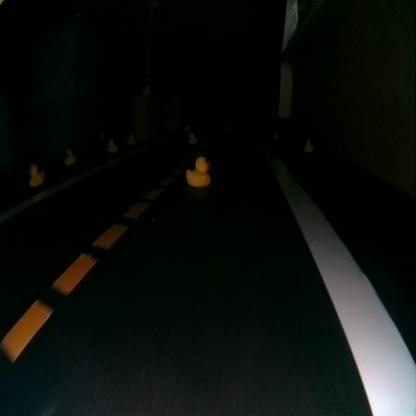Duckie: (186, 158, 208, 185), (28, 163, 42, 185), (108, 140, 113, 148)
